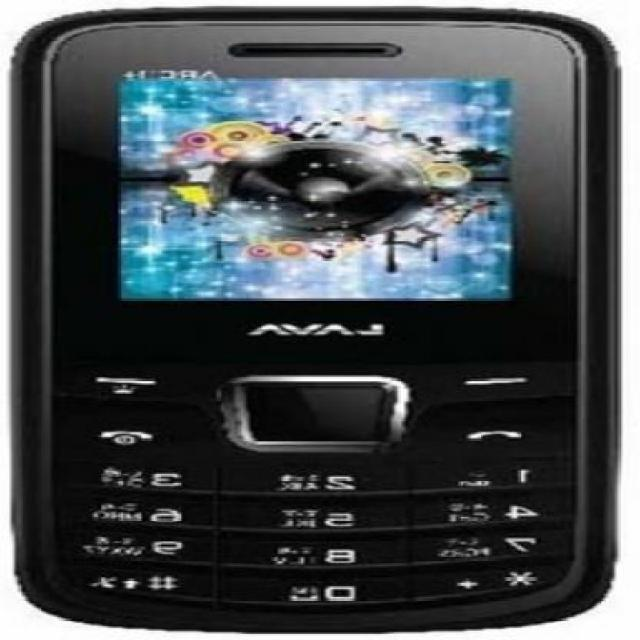phone: (4, 8, 626, 639)
